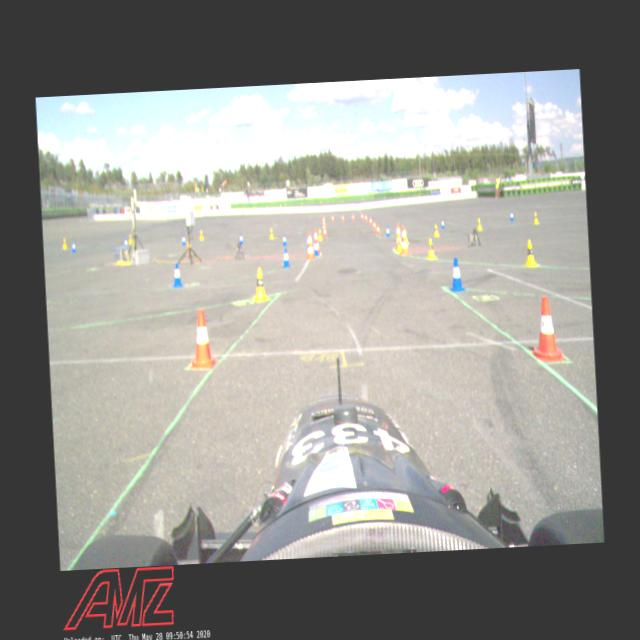blue_cone: (450, 256, 466, 292), (170, 261, 184, 288), (280, 248, 291, 268), (312, 240, 320, 256), (71, 240, 77, 253), (282, 233, 288, 246), (238, 233, 244, 246), (386, 225, 392, 237), (440, 218, 446, 230), (510, 211, 516, 222), (181, 234, 185, 246), (124, 235, 128, 247)
large_orange_cone: (400, 225, 410, 254), (306, 232, 315, 260), (394, 223, 403, 250), (312, 228, 320, 256)
orange_cone: (530, 293, 563, 361), (187, 308, 219, 370), (376, 224, 381, 236), (372, 220, 377, 230), (323, 228, 327, 238), (364, 214, 368, 222), (341, 214, 344, 222), (361, 212, 364, 220), (332, 214, 334, 223), (352, 213, 354, 222), (370, 217, 372, 226)
yellow_cone: (252, 268, 268, 302), (524, 238, 537, 266), (426, 238, 437, 260), (396, 233, 402, 253), (532, 210, 540, 224), (433, 224, 440, 238), (476, 217, 483, 231), (268, 228, 275, 240), (198, 228, 204, 242), (62, 237, 68, 250), (318, 228, 323, 241), (128, 234, 132, 246)
